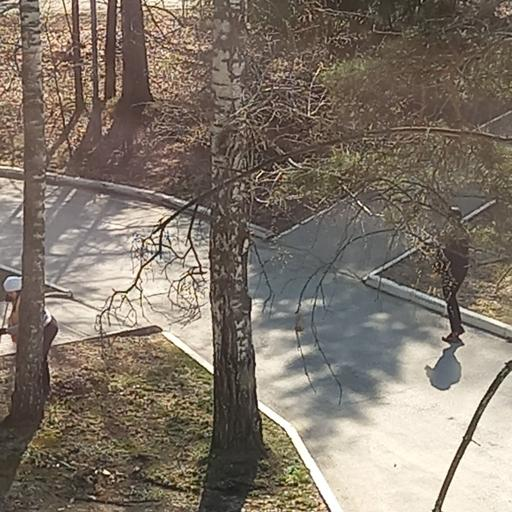Humans: (408, 198, 481, 350)
